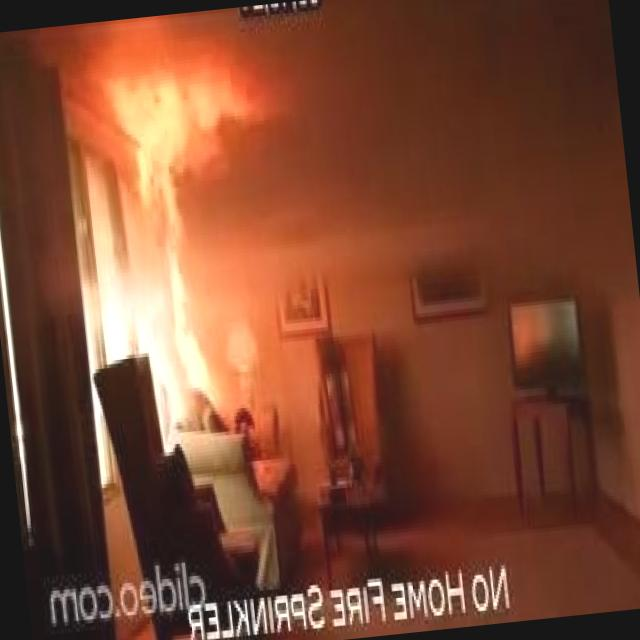fire: (70, 3, 324, 471)
